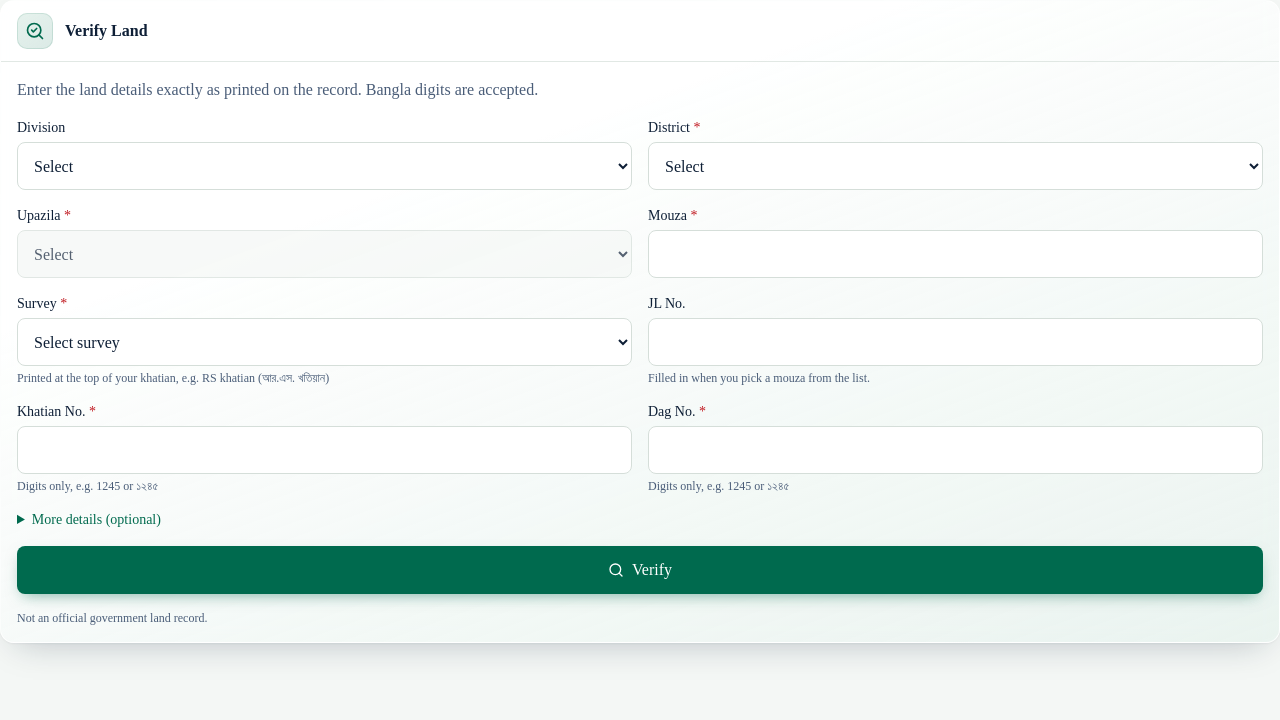
Test: VerifyForm › does not search without a survey and shows surveyRequired
Select "Gazipur (গাজীপুর)" in the dropdown labelled "District *" at (956, 166), box left=648, top=142, right=1263, bottom=190
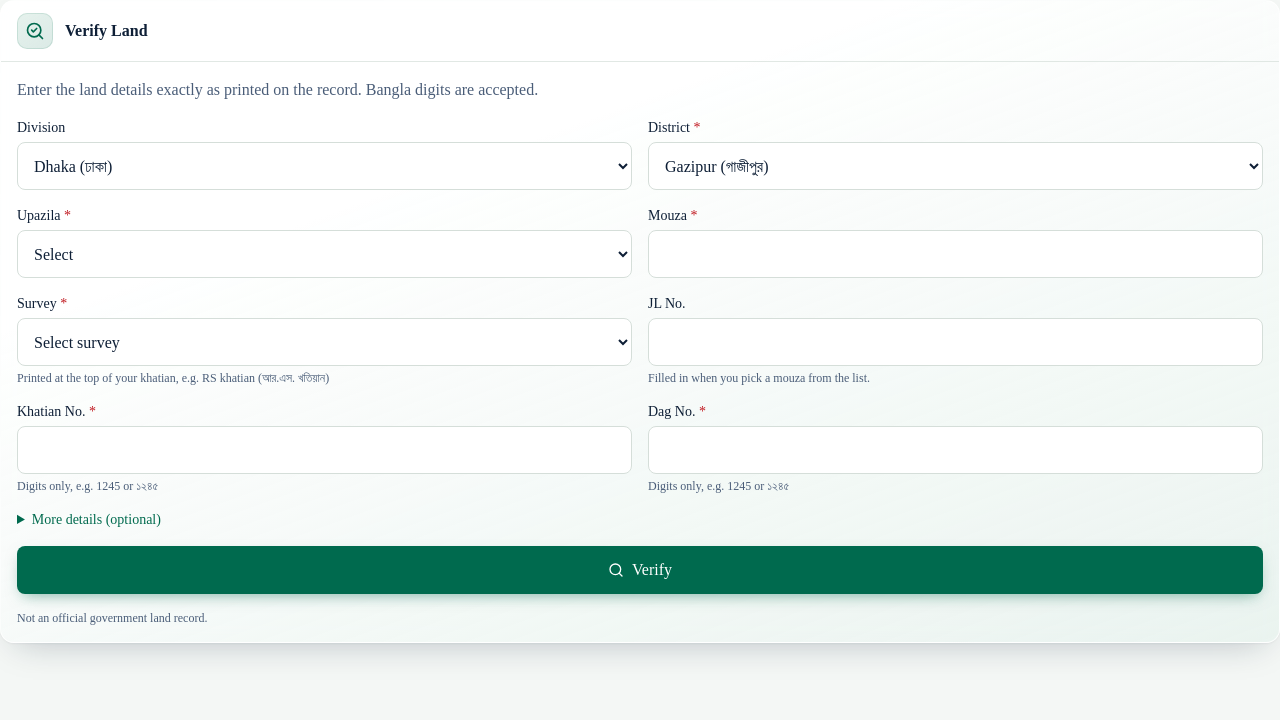
Select "Sreepur (শ্রীপুর)" in the dropdown labelled "Upazila *" at (324, 254), box left=17, top=230, right=632, bottom=278
Type "Barmi" into the field labelled "Mouza *" at (956, 254), box left=648, top=230, right=1263, bottom=278
Select "RS (Revisional)" in the dropdown labelled "Survey *" at (324, 342), box left=17, top=318, right=632, bottom=366
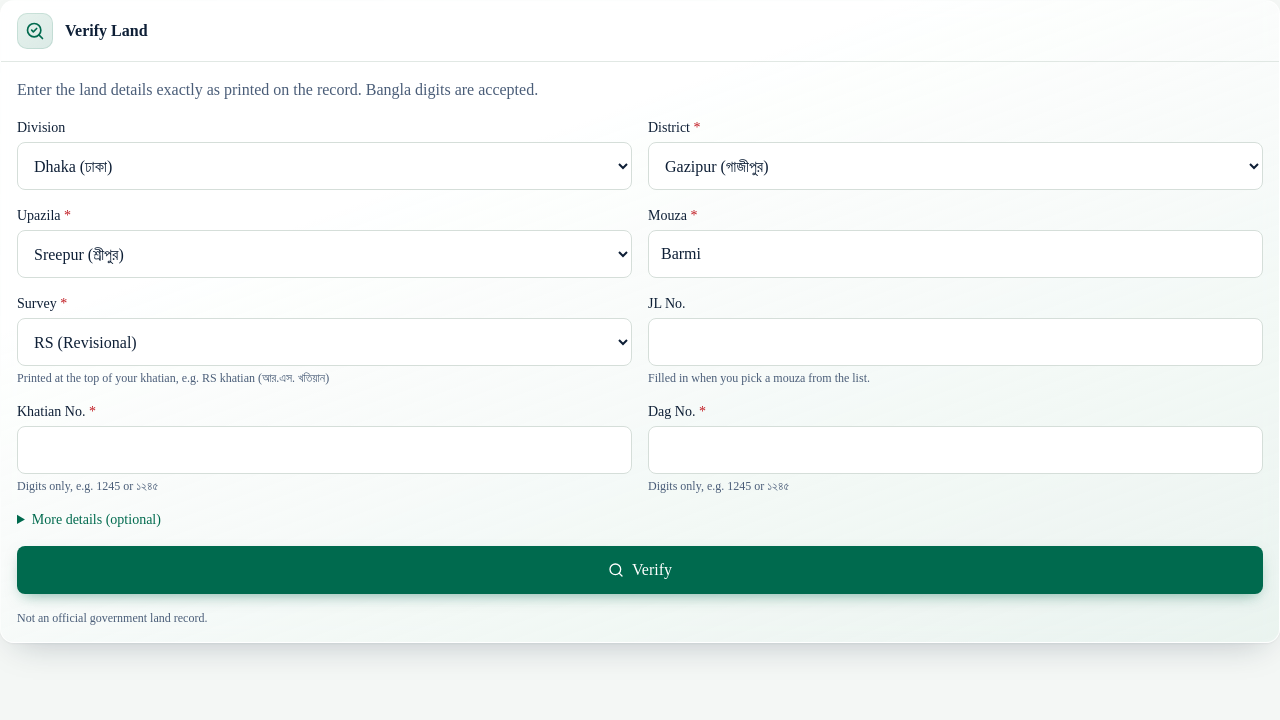
Type "১২৪৫" into the field labelled "Khatian No. *" at (324, 450), box left=17, top=426, right=632, bottom=474
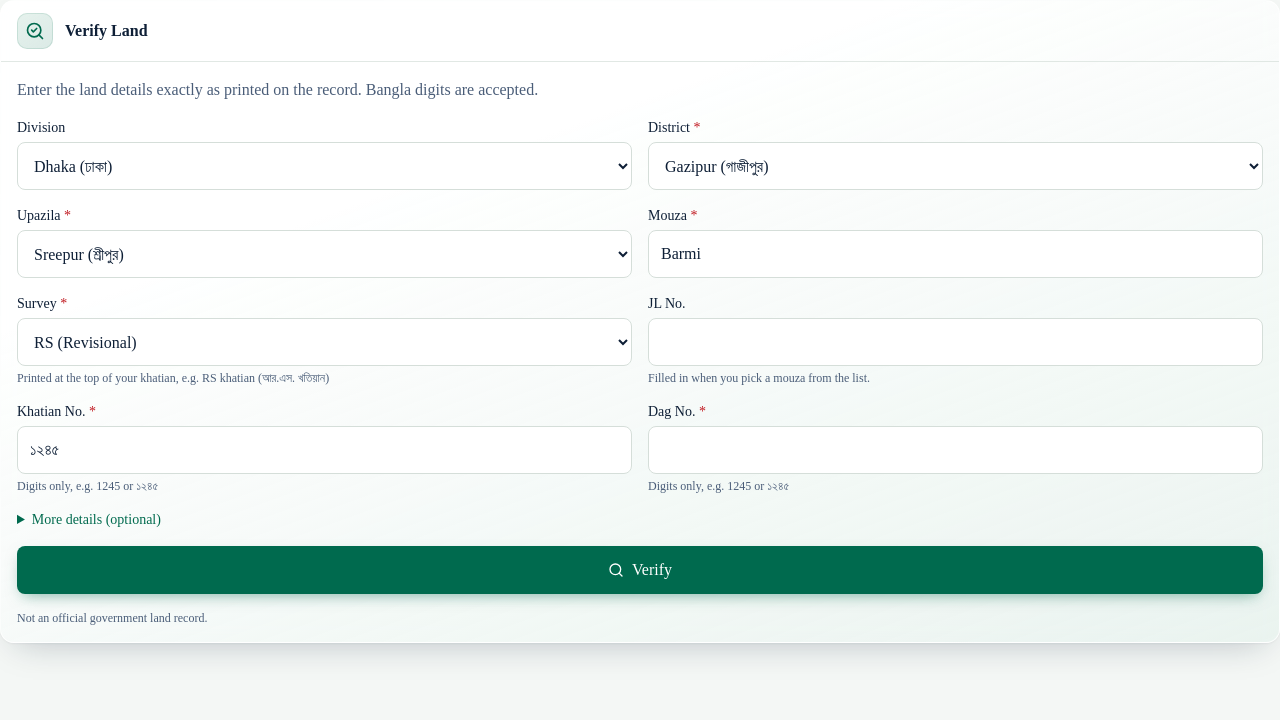
Type "785" into the field labelled "Dag No. *" at (956, 450), box left=648, top=426, right=1263, bottom=474
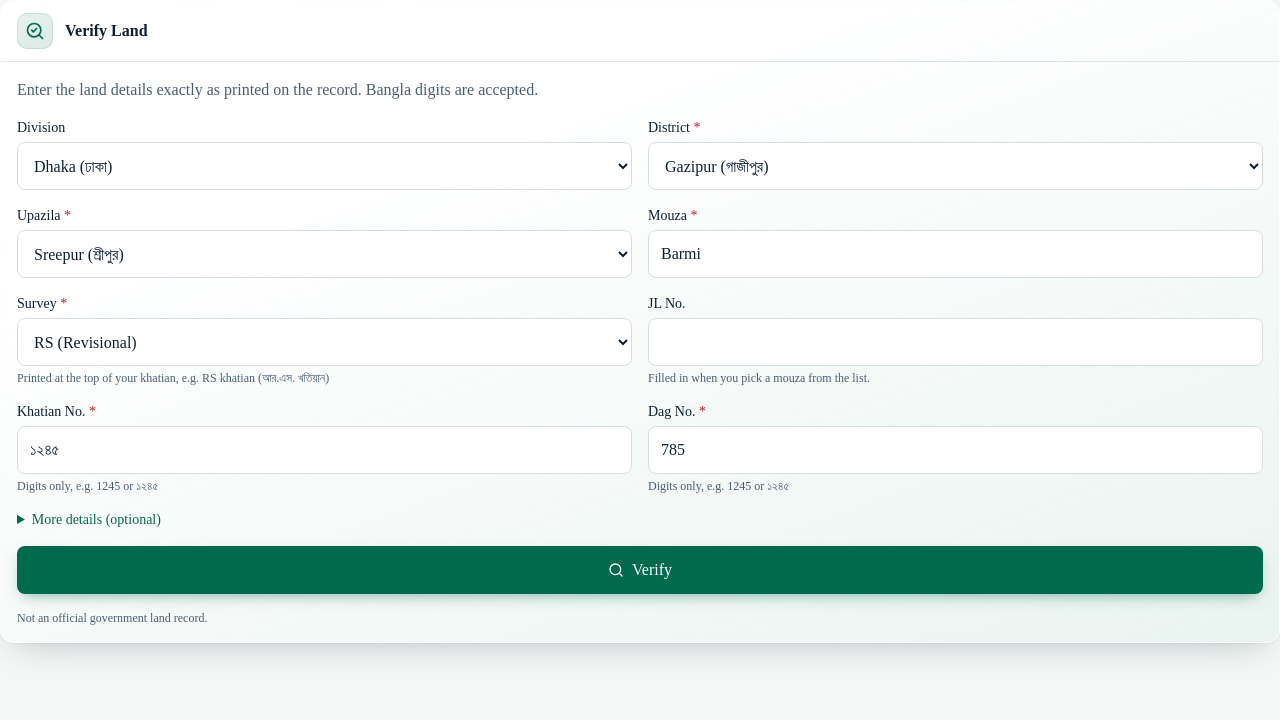
Select "Select survey" in the dropdown labelled "Survey *" at (324, 342), box left=17, top=318, right=632, bottom=366
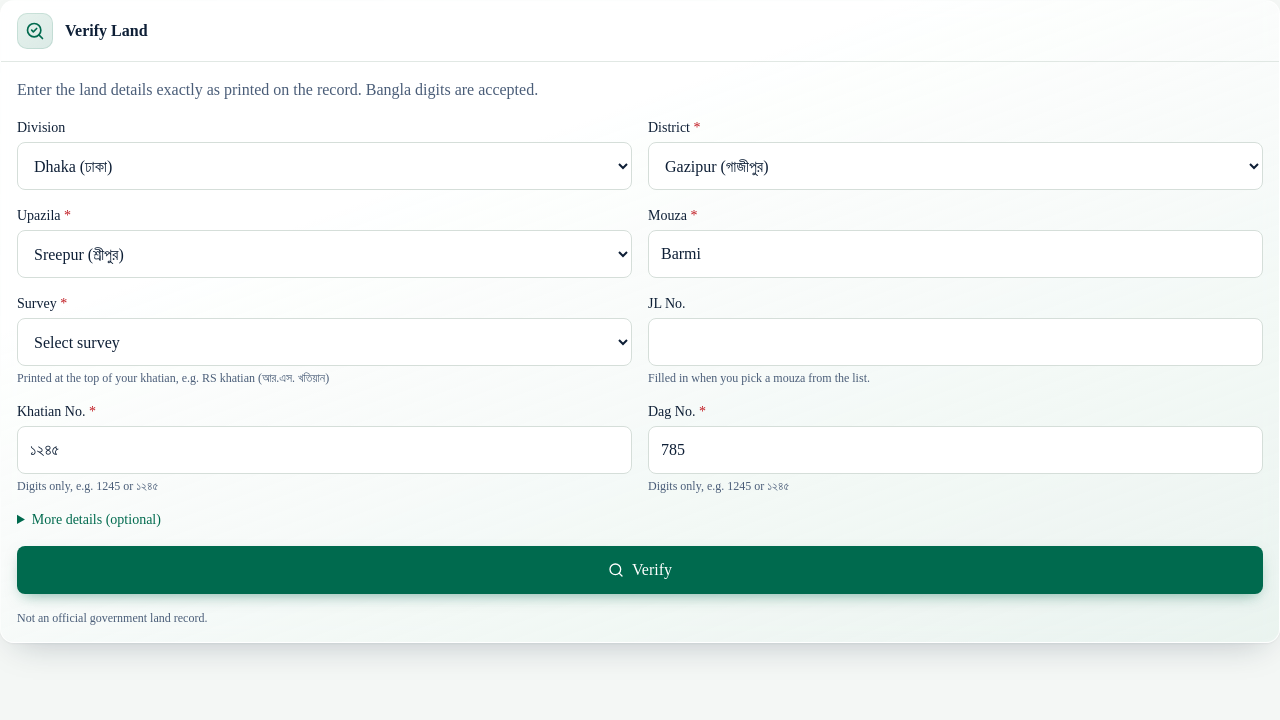
Click the button "Verify" at (640, 570), box left=17, top=546, right=1263, bottom=594
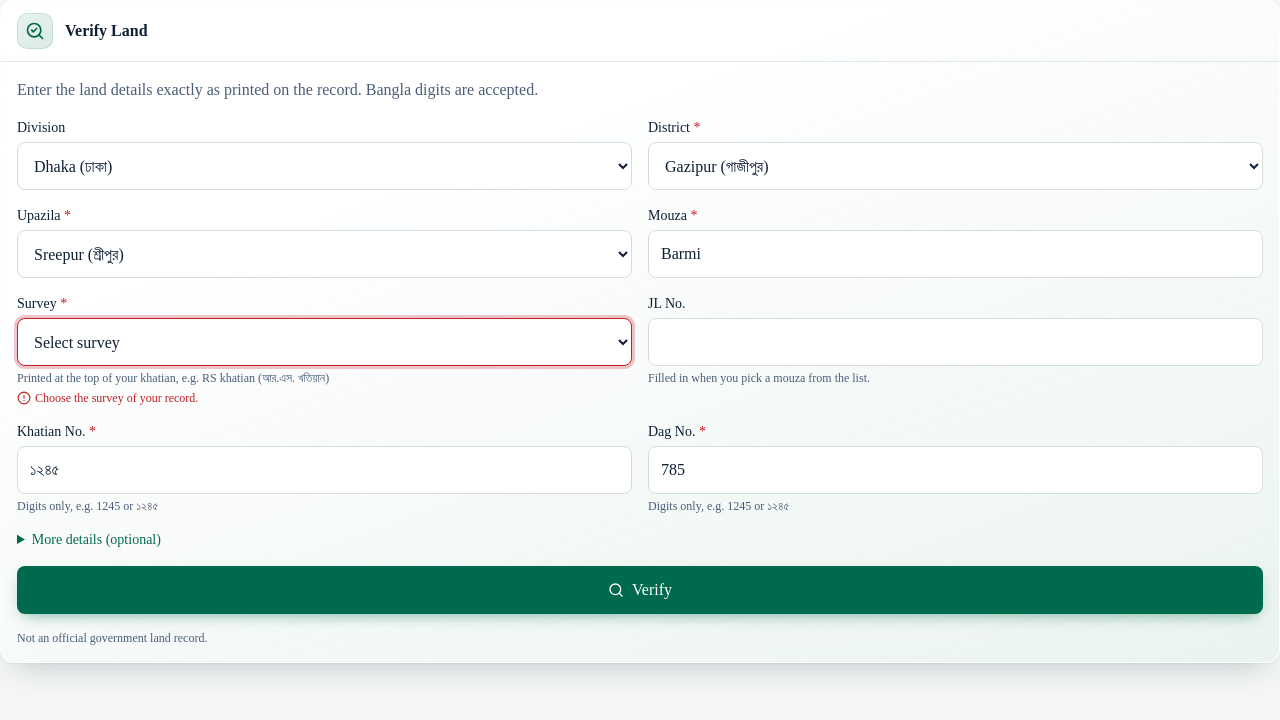
Check: the text "Choose the survey of your record." is shown, box left=35, top=390, right=198, bottom=406
